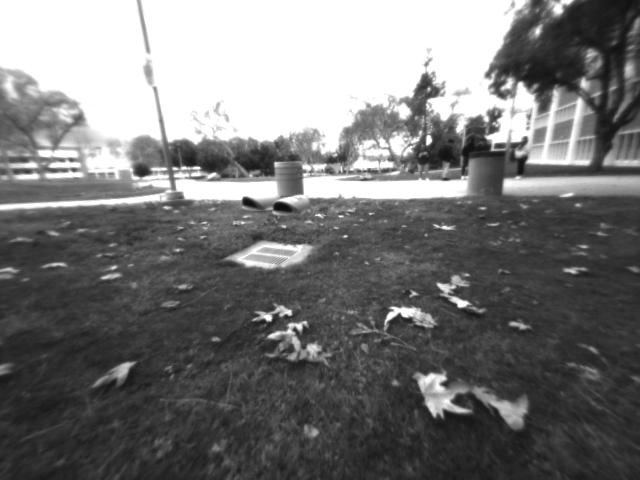trashcan: (464, 144, 509, 199), (269, 153, 309, 198)
